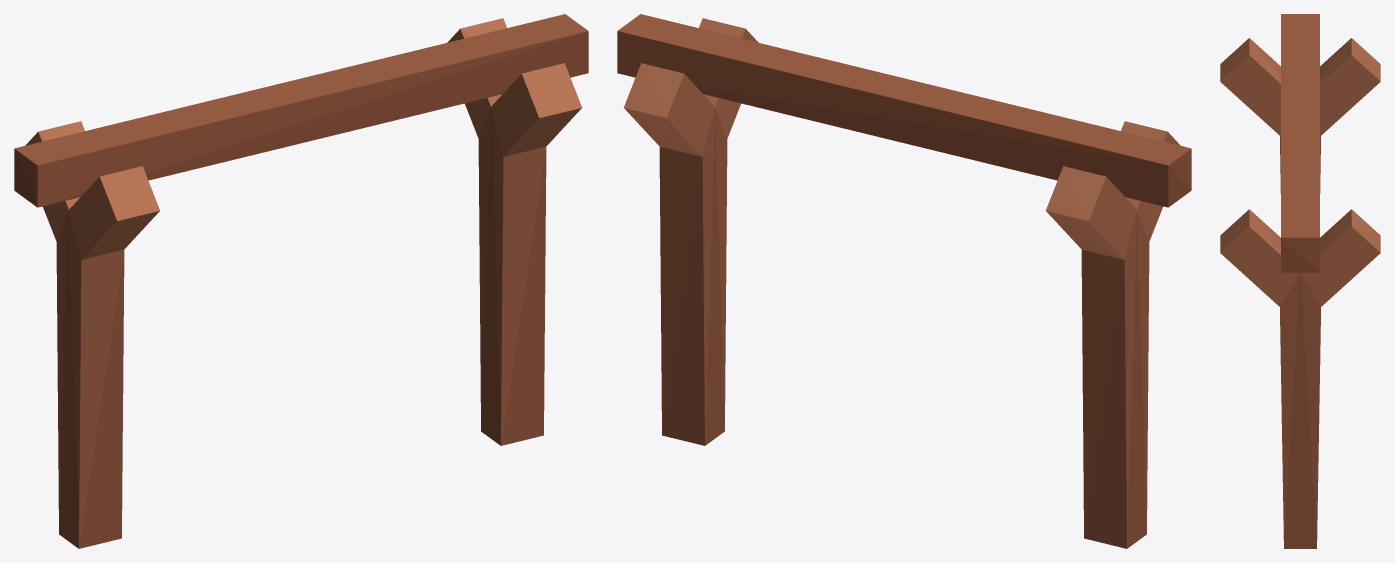
The model's file is survival_campfire_stand.glb.
The picture shows the model from 3 angles, left to right: view 1: azimuth 30°, elevation 25°; view 2: azimuth 150°, elevation 25°; view 3: azimuth 270°, elevation 25°; orthographic projection. The views are drawn at different scales.
Parts seen in each view (by area): view 1: survival_campfire_stand; view 2: survival_campfire_stand; view 3: survival_campfire_stand.
Part boxes in pixels (x1,y1,x2,y2): survival_campfire_stand: [14, 14, 588, 548]; survival_campfire_stand: [617, 14, 1191, 548]; survival_campfire_stand: [1220, 14, 1380, 548].
Size of the model in its own units: 0.41 by 0.281 by 0.1245.
